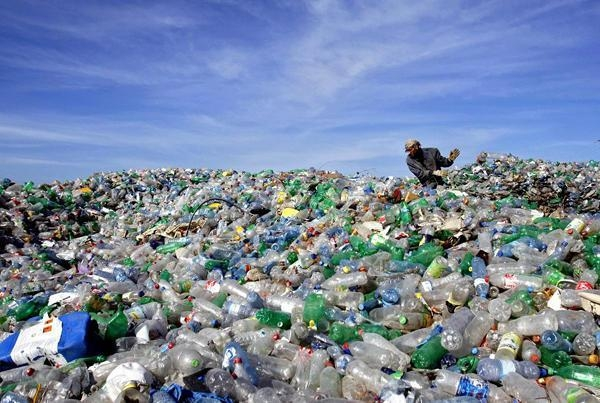plastic: (1, 309, 100, 371), (435, 370, 513, 401), (474, 355, 553, 385), (484, 267, 549, 297), (455, 307, 494, 356), (345, 360, 399, 392), (337, 336, 395, 365), (544, 362, 600, 389), (409, 331, 448, 369), (313, 268, 371, 293), (164, 343, 209, 375), (501, 312, 562, 333), (185, 292, 228, 321), (534, 239, 573, 266), (250, 302, 292, 326), (204, 365, 235, 396), (301, 289, 324, 329), (572, 266, 600, 293), (542, 332, 577, 351)
